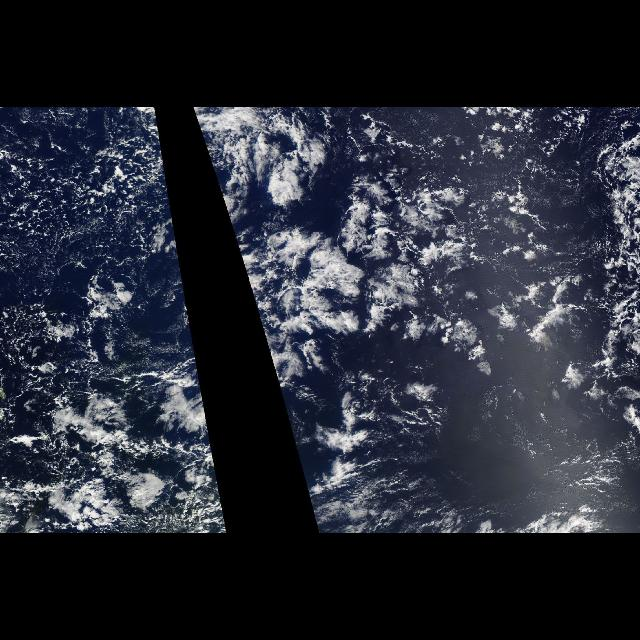Gravel: (3, 137, 198, 479), (359, 175, 613, 391)
